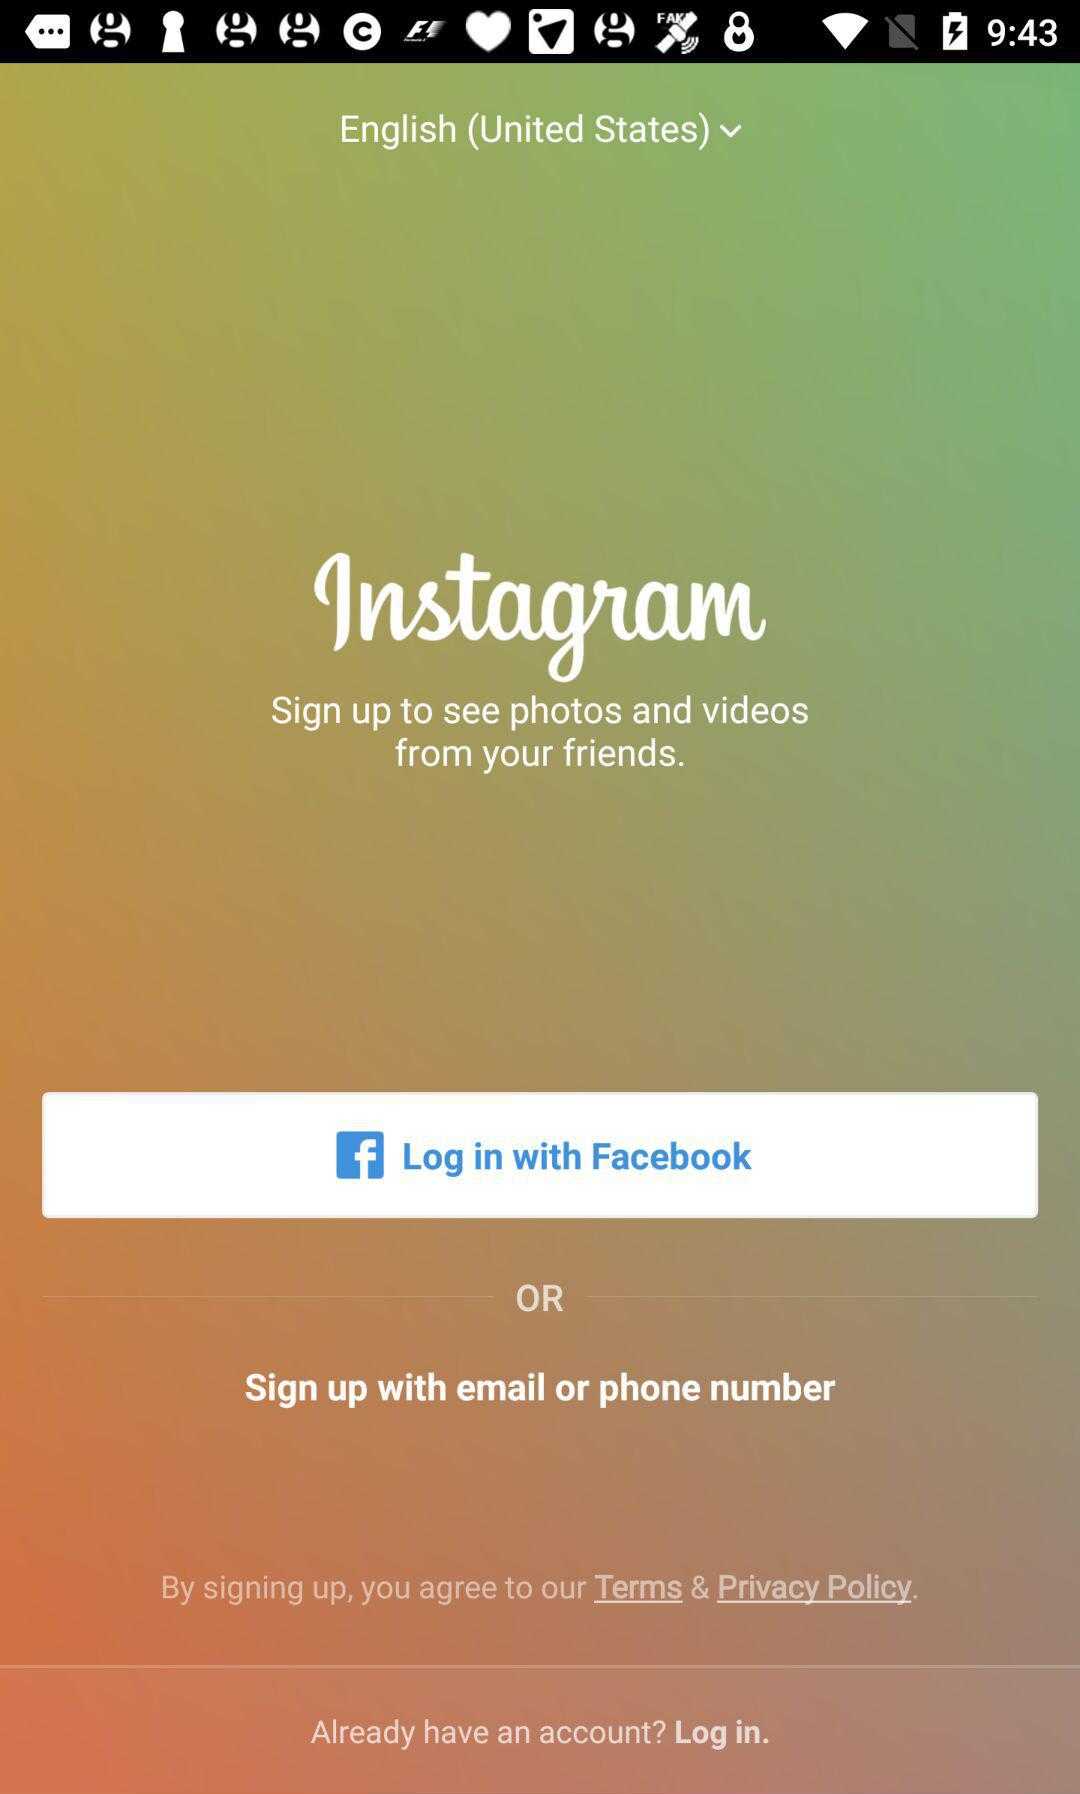Image: (313, 552, 767, 686)
Spinner: (341, 111, 744, 152)
Text: (272, 693, 810, 777), (161, 1574, 919, 1607), (245, 1371, 837, 1410), (516, 1283, 565, 1313)
TextButton: (1, 1666, 1080, 1794), (42, 1092, 1039, 1219)
UpperTaskBar: (1, 1, 1080, 64)
